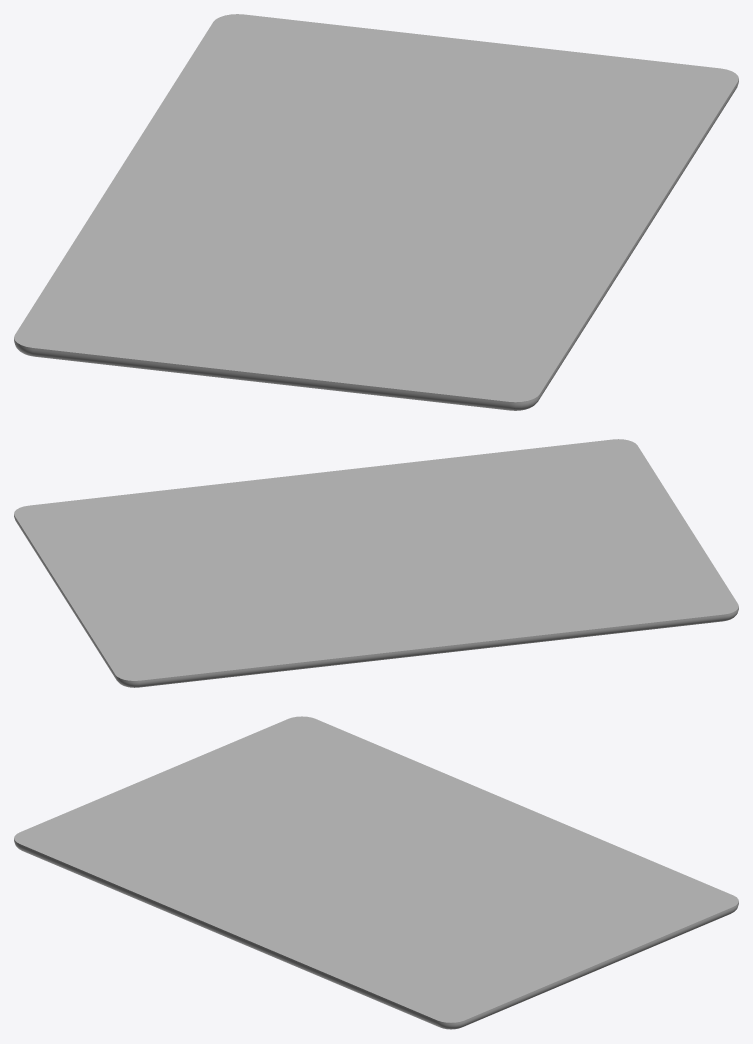
The model's file is diningtable_0205_top.glb.
3 views of the same model, one above another, from view 1: azimuth 30°, elevation 25°; view 2: azimuth 150°, elevation 25°; view 3: azimuth 270°, elevation 25° (orthographic). The views are drawn at different scales.
Visible parts, largest first — view 1: diningtable_0205_top; view 2: diningtable_0205_top; view 3: diningtable_0205_top.
Boxes of the visible parts, box(x1,y1,x2,y2) form: diningtable_0205_top: box(14, 14, 738, 410); diningtable_0205_top: box(14, 439, 738, 687); diningtable_0205_top: box(14, 716, 738, 1029).
Bounding box in the file's own units: 1.38 × 0.0202 × 1.38.
1 material, 1 textured.
